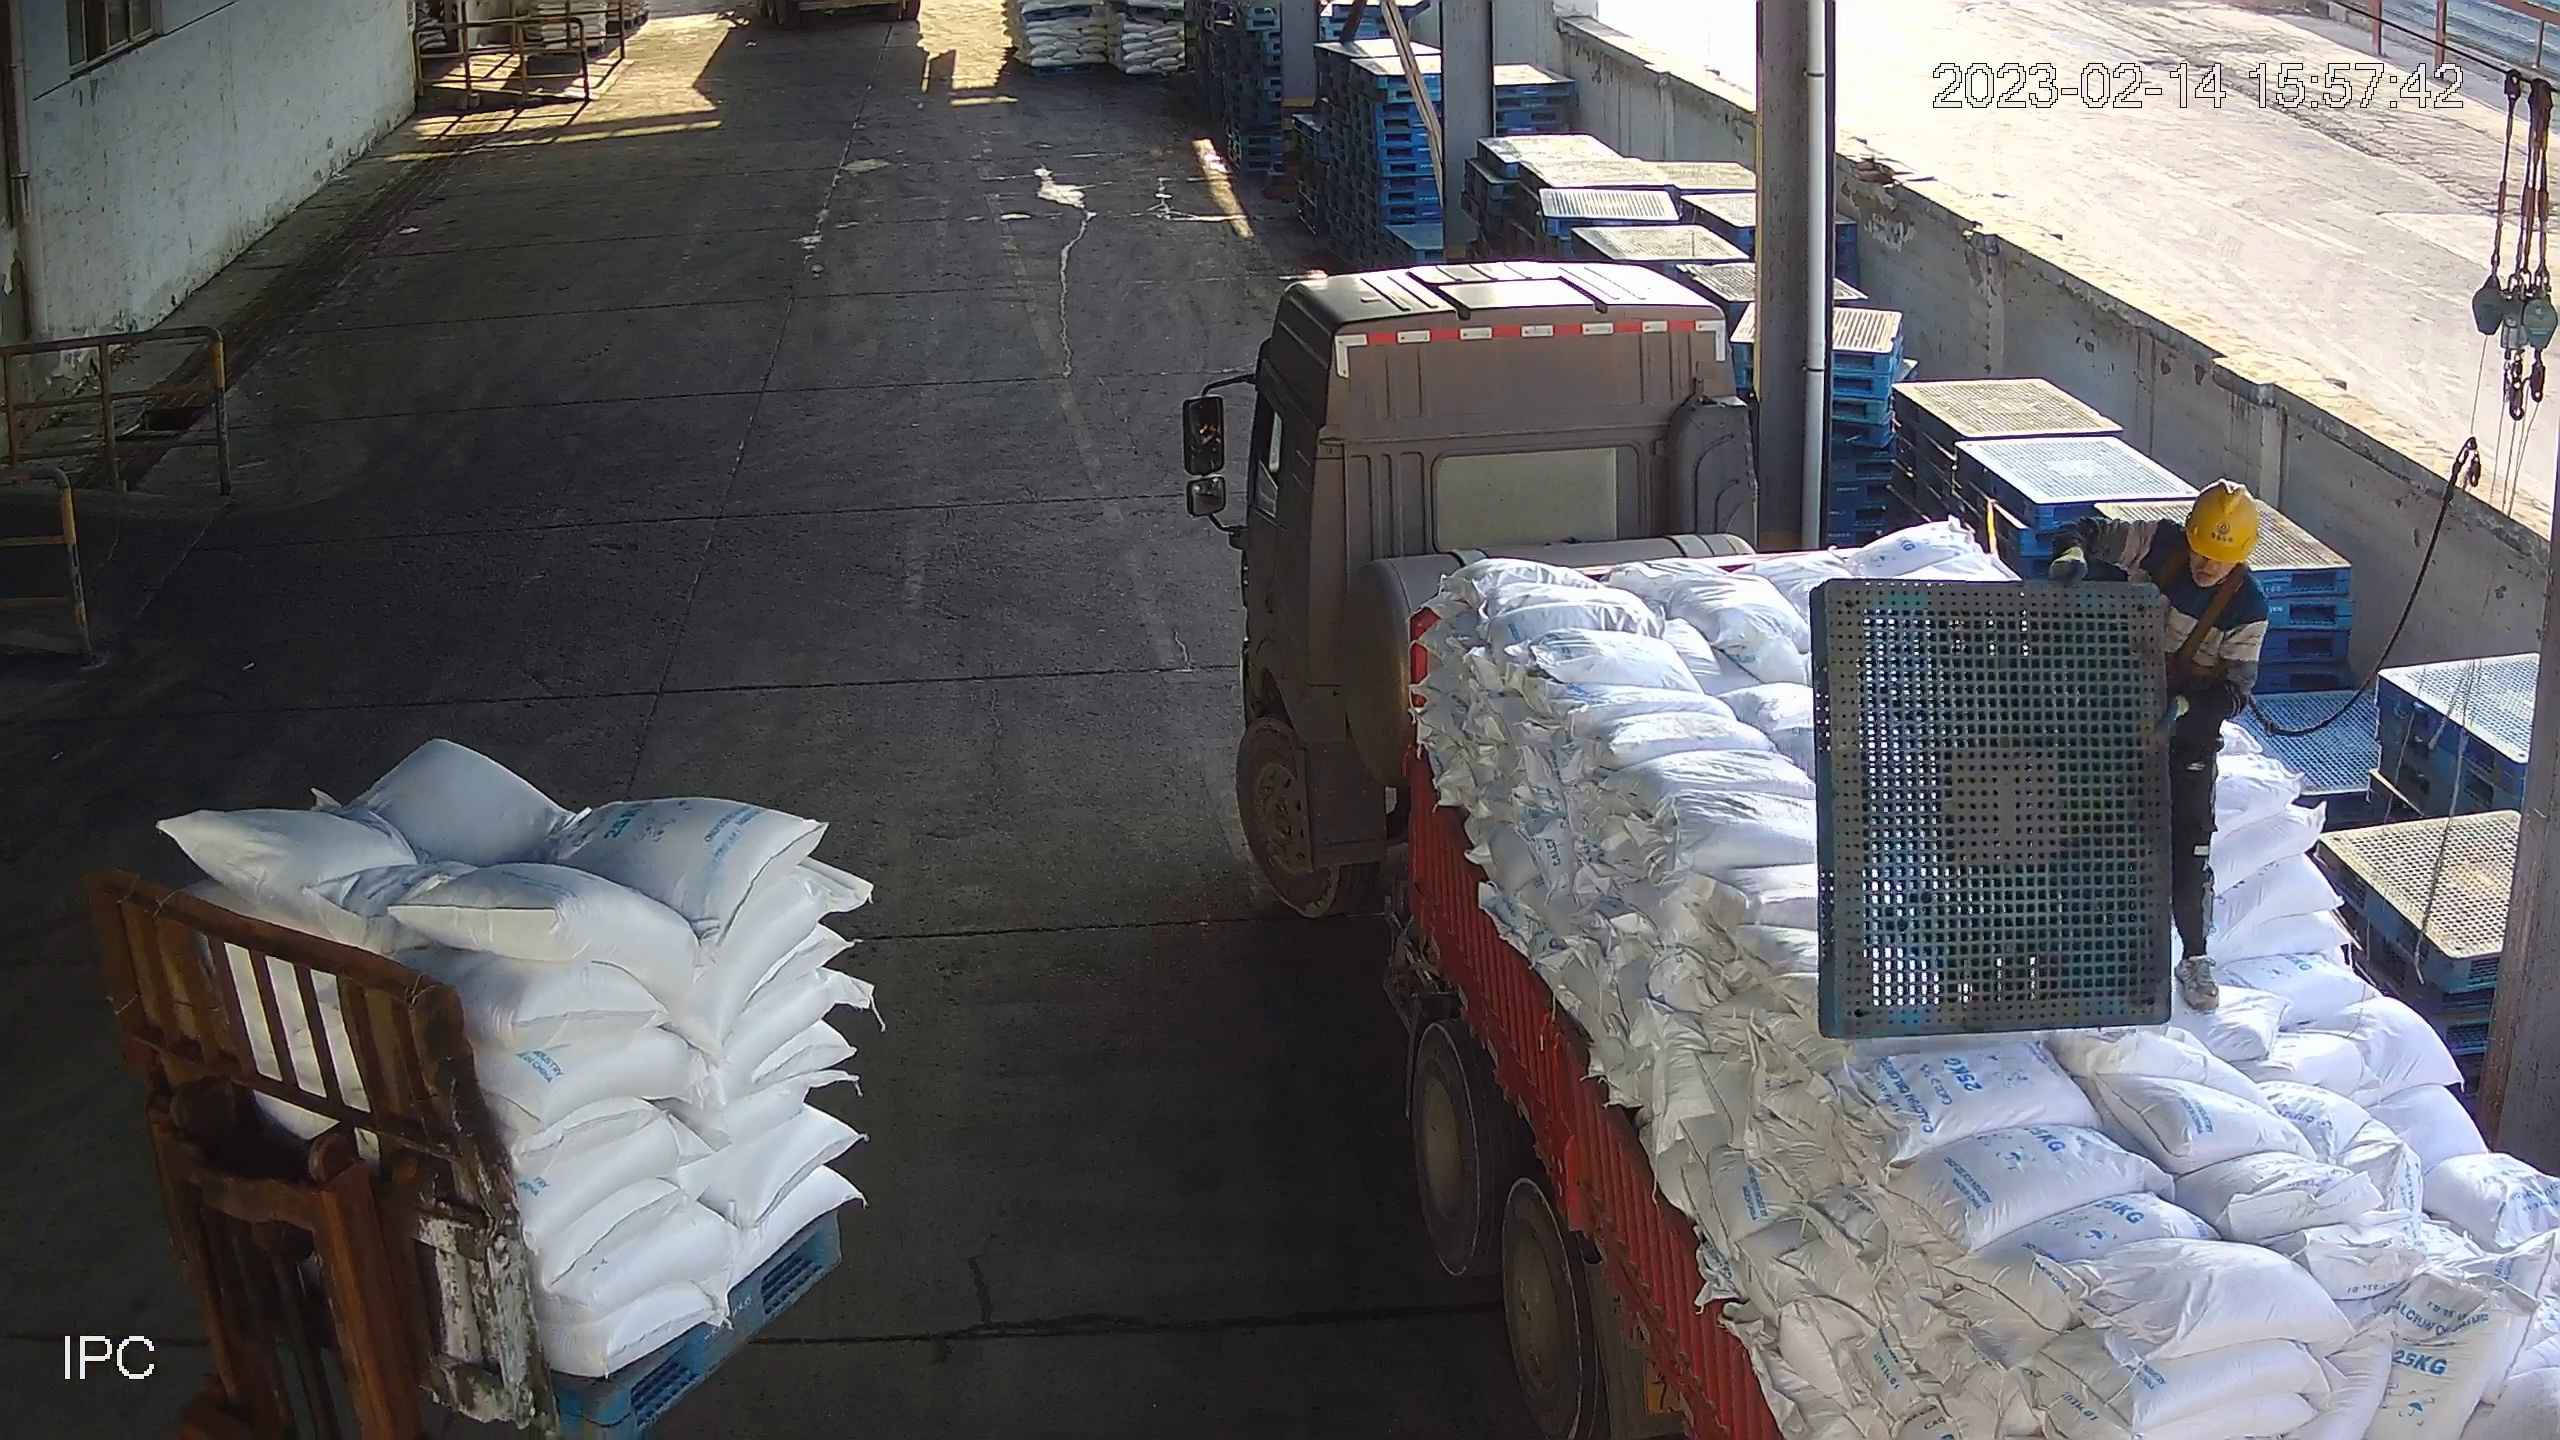belt: (2154, 548, 2266, 711)
head: (2125, 476, 2273, 618)
helmet: (2183, 477, 2258, 563)
people: (2046, 476, 2270, 1015)
truck: (1224, 264, 2560, 1440)
